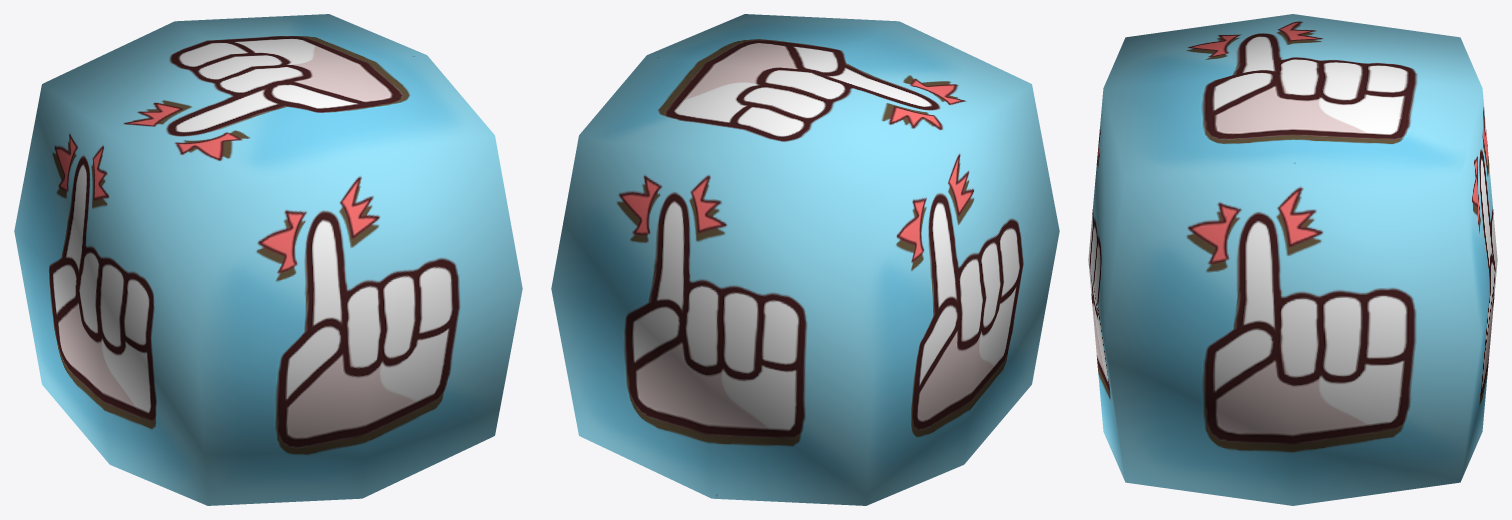
Rendered from CustomDice.fbx.
The picture shows the model from 3 angles, left to right: view 1: azimuth 30°, elevation 25°; view 2: azimuth 150°, elevation 25°; view 3: azimuth 270°, elevation 25°; orthographic projection.
Visible parts, largest first — view 1: Cube; view 2: Cube; view 3: Cube.
Boxes of the visible parts, <box> form: Cube: <box>14,14,522,505</box>; Cube: <box>551,14,1059,505</box>; Cube: <box>1088,14,1497,505</box>.
Size of the model in its own units: 121 by 121 by 121.
Materials: 1 (1 with a texture image).
